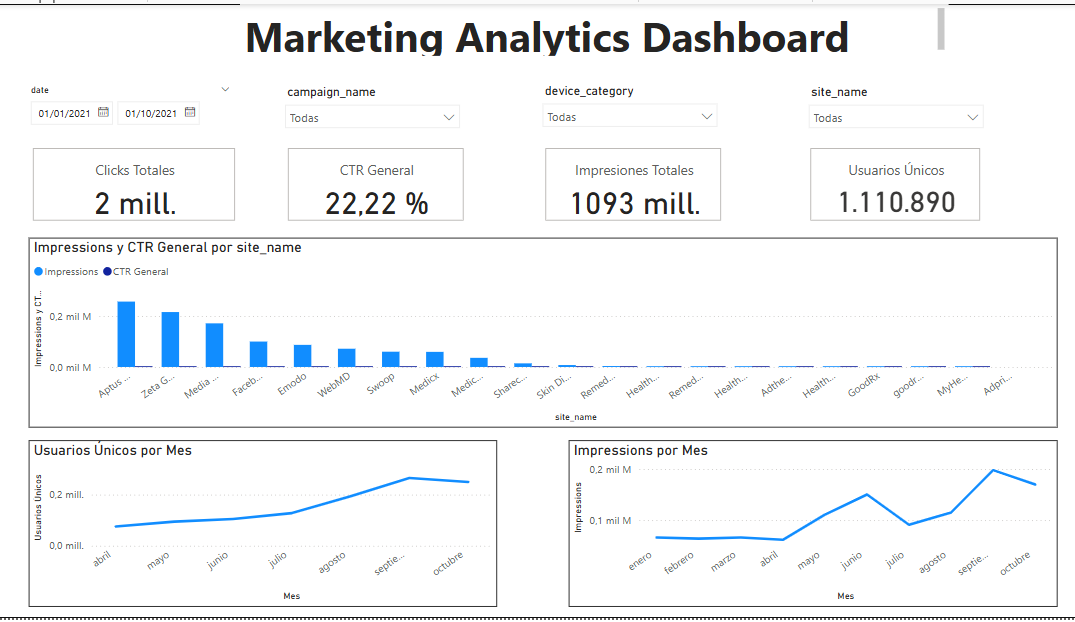

The page's visual inventory and layout, read from the dashboard file:
{"tool":"powerbi","page":{"name":"Página 1","canvas":[1280,720],"ordinal":0},"visuals":[{"type":"textbox","box":[287.1,0,830.6,65.9],"z":0},{"type":"cardVisual","fields":{"Data":["fact_ad_performance.Clicks Totales"]},"box":[39.6,164.1,247.6,95.2],"z":1},{"type":"cardVisual","fields":{"Data":["fact_ad_performance.CTR General"]},"box":[338.4,164.1,216.8,95.2],"z":2},{"type":"cardVisual","fields":{"Data":["fact_ad_performance.Impresiones Totales"]},"box":[640.1,164.1,216.8,95.2],"z":3},{"type":"cardVisual","fields":{"Data":["fact_web_analytics.Usuarios Únicos"]},"box":[950.7,164.1,209.5,95.2],"z":4},{"type":"clusteredColumnChart","fields":{"Category":["dim_site.site_name"],"Y":["Sum(fact_ad_performance.impressions)","fact_ad_performance.CTR General"]},"box":[39.6,273.9,1205.6,222.7],"z":5},{"type":"lineChart","fields":{"Category":["dim_date.date.Variación.Jerarquía de fechas.Mes"],"Y":["fact_web_analytics.Usuarios Únicos"]},"box":[39.8,511.8,548.9,194.9],"z":6},{"type":"lineChart","fields":{"Category":["dim_date.date.Variación.Jerarquía de fechas.Mes"],"Y":["Sum(fact_ad_performance.impressions)"]},"box":[672.4,511.2,572.8,194.8],"z":7},{"type":"slicer","fields":{"Values":["dim_date.date"]},"box":[28.8,89.2,258,63.1],"z":8},{"type":"slicer","fields":{"Values":["dim_campaign.campaign_name"]},"box":[329.3,89.2,225,63.1],"z":9},{"type":"slicer","fields":{"Values":["dim_device.device_category"]},"box":[631.4,87.9,225.6,63],"z":10},{"type":"slicer","fields":{"Values":["dim_site.site_name"]},"box":[942.7,89.2,225,63.1],"z":11}]}

Visuals, with their boxes in screenshot pixels (x1, y1, x2, y2), scaled from the page's 1280x720 canvas onto the 1075x622 screenshot:
textbox: box(241, 0, 939, 57)
cardVisual - fact_ad_performance.Clicks Totales: box(33, 142, 241, 224)
cardVisual - fact_ad_performance.CTR General: box(284, 142, 466, 224)
cardVisual - fact_ad_performance.Impresiones Totales: box(538, 142, 720, 224)
cardVisual - fact_web_analytics.Usuarios Únicos: box(798, 142, 974, 224)
clusteredColumnChart - dim_site.site_name x Sum(fact_ad_performance.impressions): box(33, 237, 1046, 429)
lineChart - dim_date.date.Variación.Jerarquía de fechas.Mes x fact_web_analytics.Usuarios Únicos: box(33, 442, 494, 611)
lineChart - dim_date.date.Variación.Jerarquía de fechas.Mes x Sum(fact_ad_performance.impressions): box(565, 442, 1046, 610)
slicer - dim_date.date: box(24, 77, 241, 132)
slicer - dim_campaign.campaign_name: box(277, 77, 466, 132)
slicer - dim_device.device_category: box(530, 76, 720, 130)
slicer - dim_site.site_name: box(792, 77, 981, 132)
